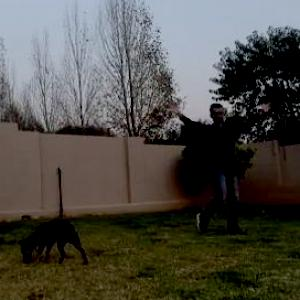takeoff: (134, 105, 252, 234)
